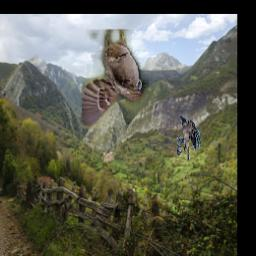Crow: (176, 116, 201, 160)
Sparrow: (82, 29, 149, 128)
